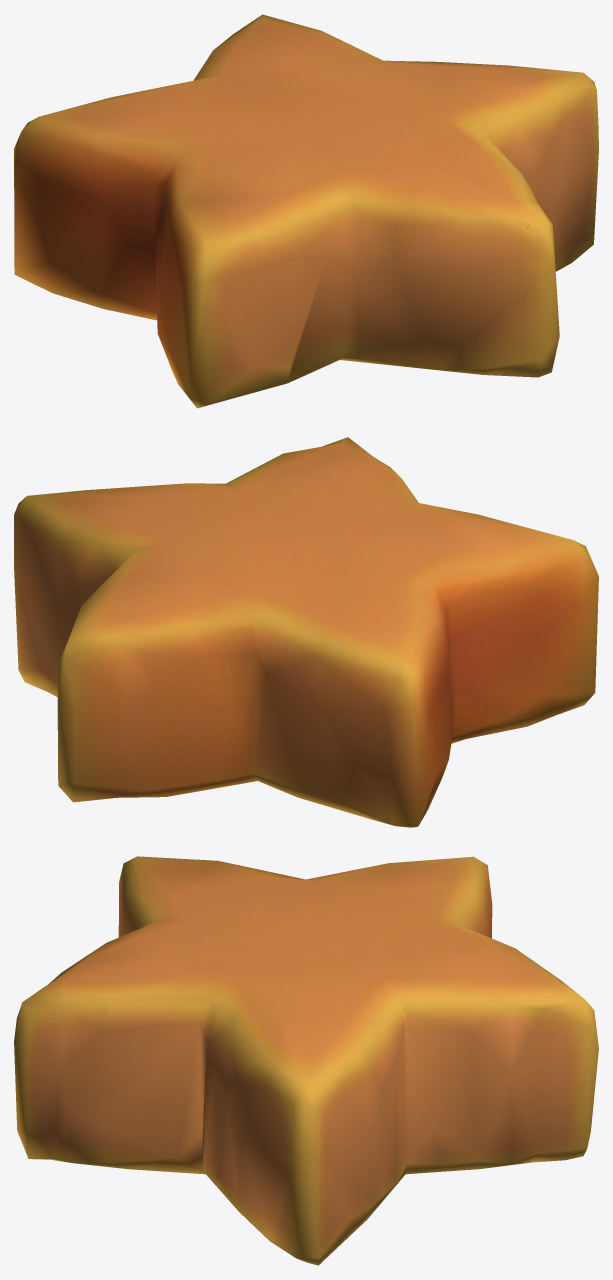
File: NINZIN.obj
The picture shows the model from 3 angles, top to bottom: view 1: azimuth 30°, elevation 25°; view 2: azimuth 150°, elevation 25°; view 3: azimuth 270°, elevation 25°; orthographic projection.
Parts seen in each view (by area): view 1: tripo_node_6abc821d; view 2: tripo_node_6abc821d; view 3: tripo_node_6abc821d.
Part boxes in pixels (bbox=[...]): tripo_node_6abc821d: bbox=[14, 14, 598, 408]; tripo_node_6abc821d: bbox=[14, 437, 598, 827]; tripo_node_6abc821d: bbox=[14, 856, 598, 1265].
Size of the model in its own units: 0.9546 by 0.379 by 0.9797.
Materials: 1 (1 with a texture image).
